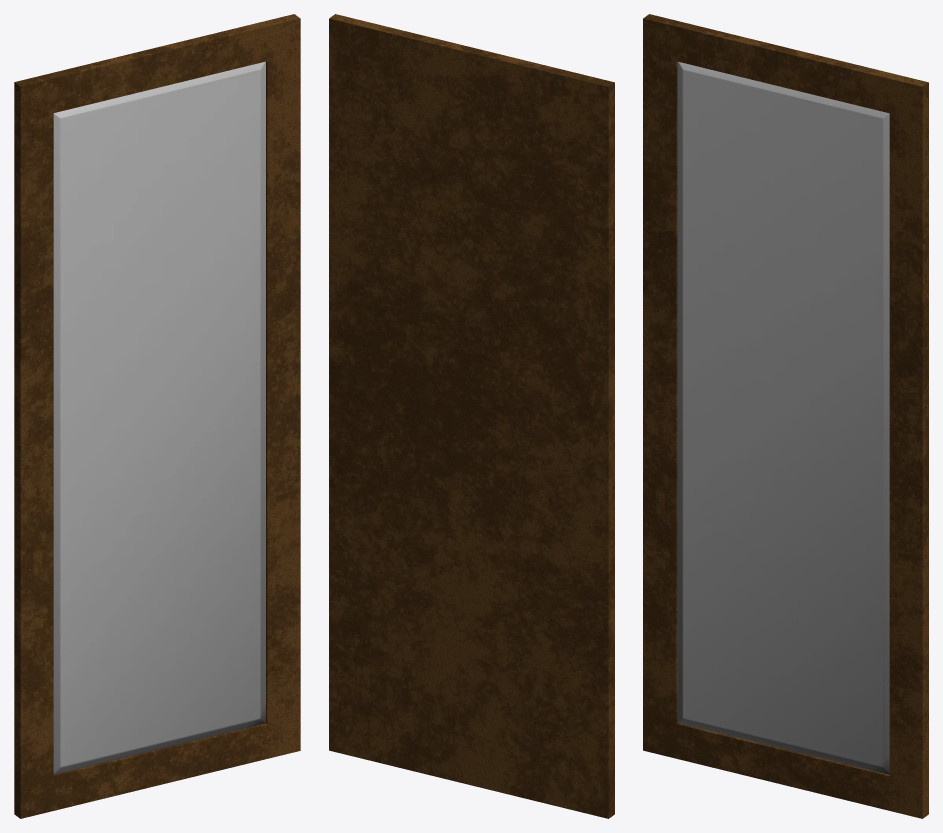
File: abo-B071KX4RX7.glb
The picture shows the model from 3 angles, left to right: view 1: azimuth 30°, elevation 25°; view 2: azimuth 150°, elevation 25°; view 3: azimuth 330°, elevation 25°; orthographic projection.
Bounding box in the file's own units: 0.812 × 2.03 × 0.032.
Materials: 1 (1 with a texture image).
